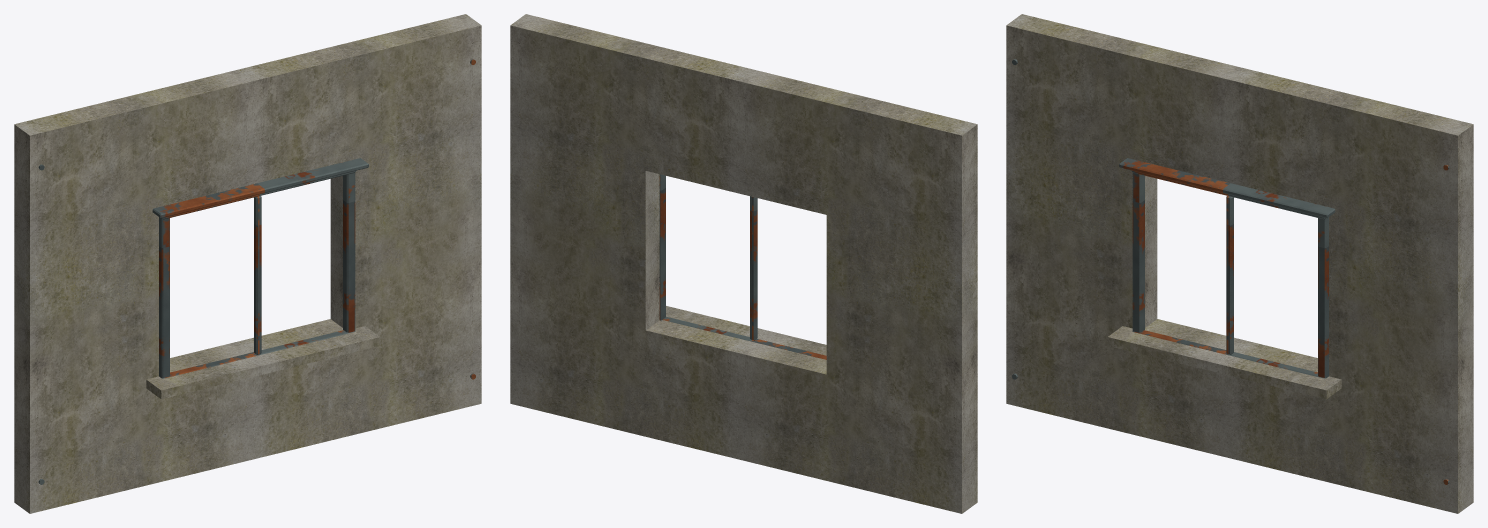
The model's file is wall_window_refined.glb.
3 renders of one model, left to right at view 1: azimuth 30°, elevation 25°; view 2: azimuth 150°, elevation 25°; view 3: azimuth 330°, elevation 25°, orthographic.
Parts seen in each view (by area): view 1: Front window | concrete_combined.001, Front window | steel_combined.001; view 2: Front window | concrete_combined.001, Front window | steel_combined.001; view 3: Front window | concrete_combined.001, Front window | steel_combined.001.
Boxes of the visible parts, x1,y1,x2,y2 form: Front window | concrete_combined.001: (14,14,481,513); Front window | steel_combined.001: (38,59,475,484); Front window | concrete_combined.001: (510,14,977,513); Front window | steel_combined.001: (659,174,826,359); Front window | concrete_combined.001: (1006,14,1473,513); Front window | steel_combined.001: (1012,59,1449,484).
Bounding box in the file's own units: 4 × 3.2 × 0.47.
2 materials, 2 textured.
